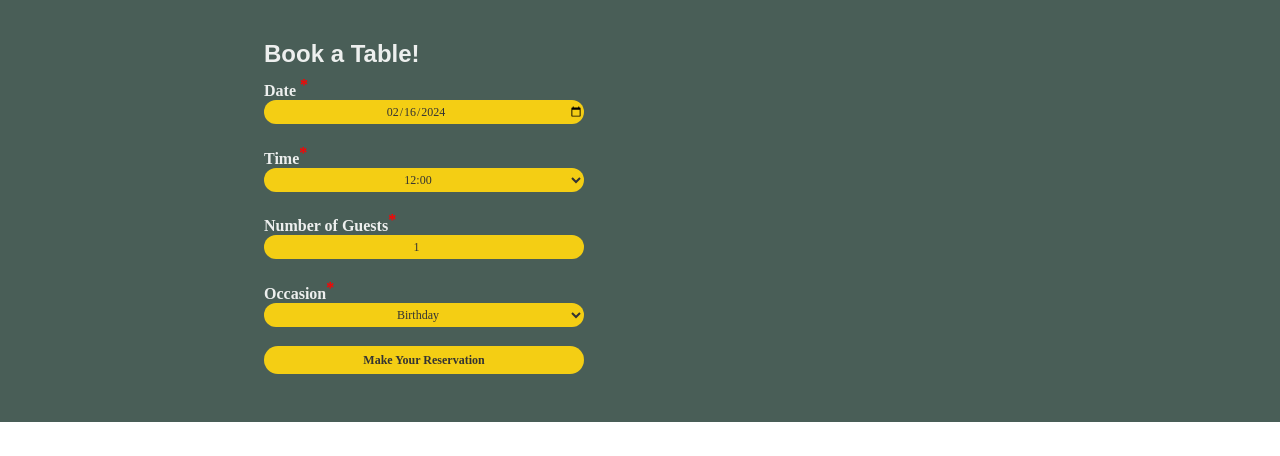
Scenario: Booking component tests › Cannot submit form (submit button disabled) with number of guests out of range (too large)
Replace the text in the number field labelled "Number of Guests*" with "11": (424, 247) 264,235 -> 584,259
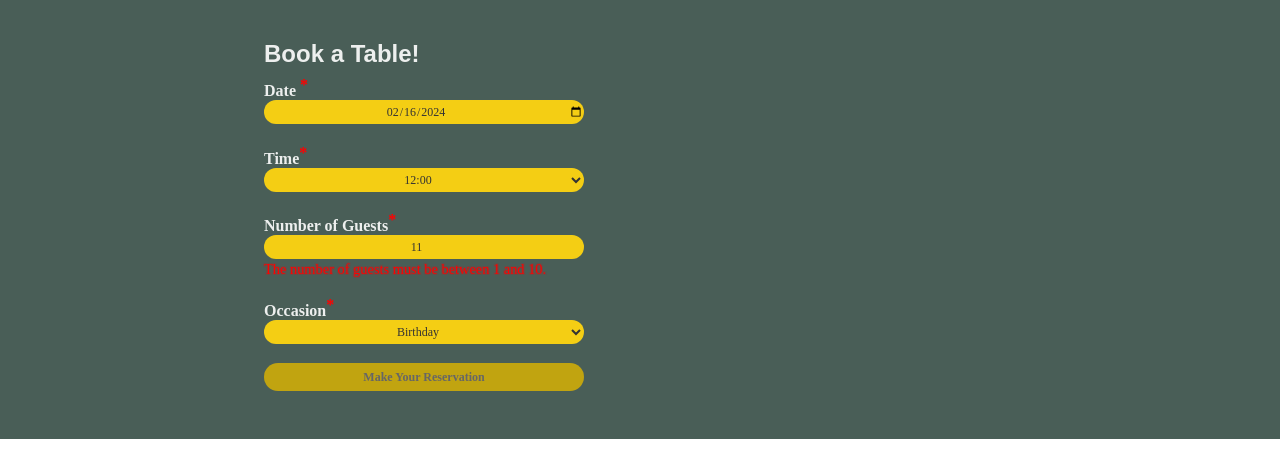
Expected: the button is disabled, 264,363 -> 584,391
